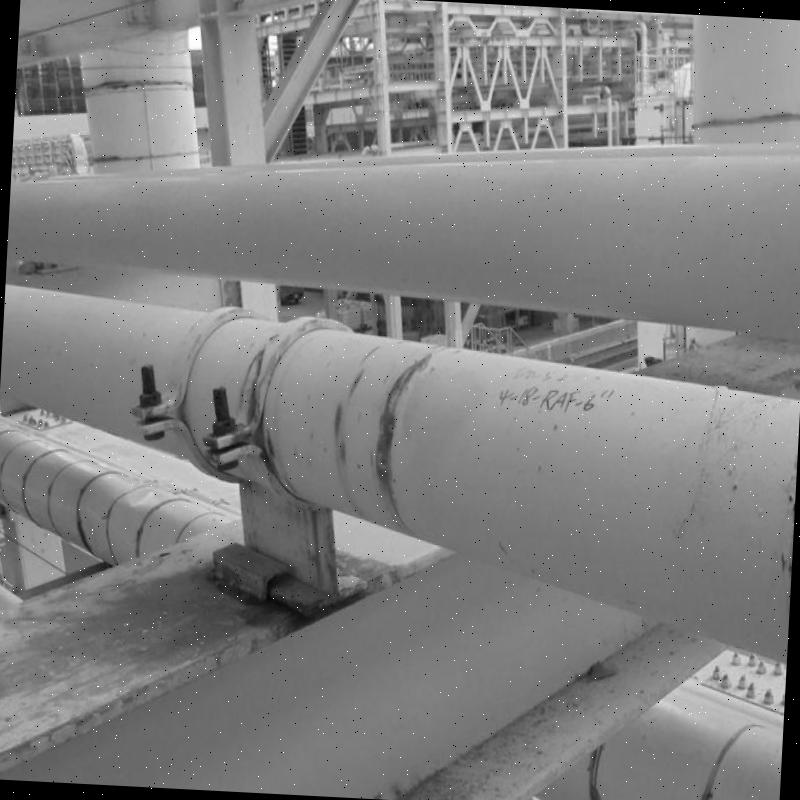corrosion: (376, 404, 394, 495)
